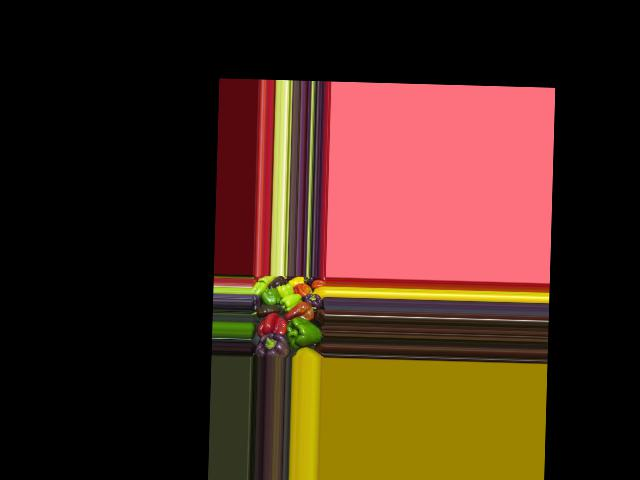bell_pepper: (303, 290, 323, 308)
